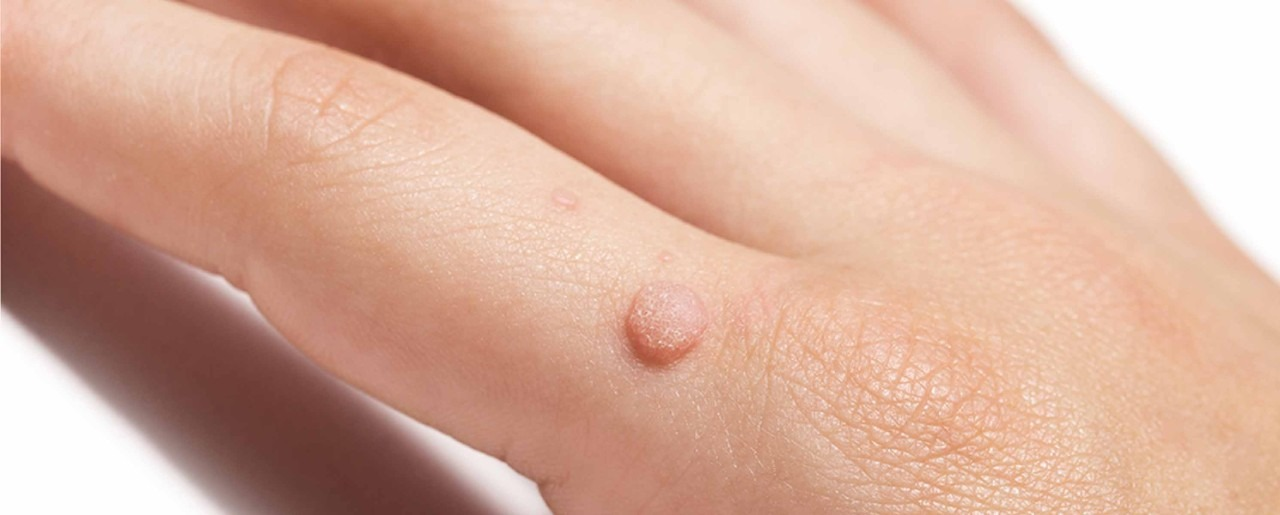Warts: (617, 266, 714, 367)
